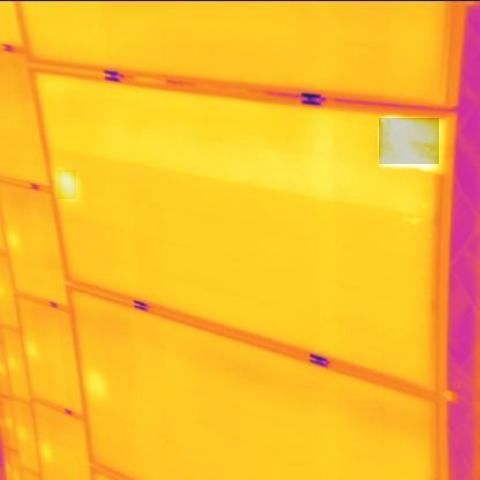fault: (380, 118, 440, 164), (58, 170, 76, 199)
